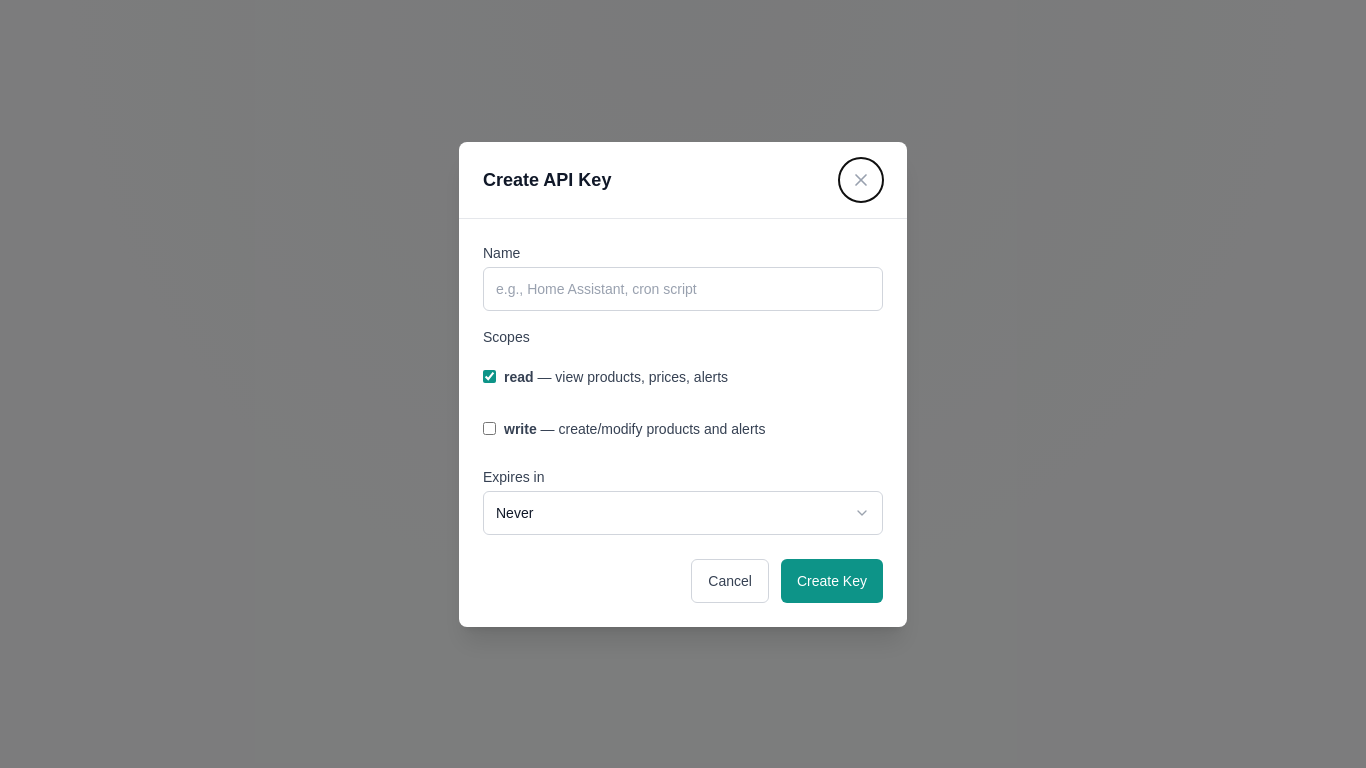
Test: ApiKeyCreateModal › should show error when no scopes selected
Type "Test Key" into the field labelled "Name" at (683, 288), box [483,266,883,310]
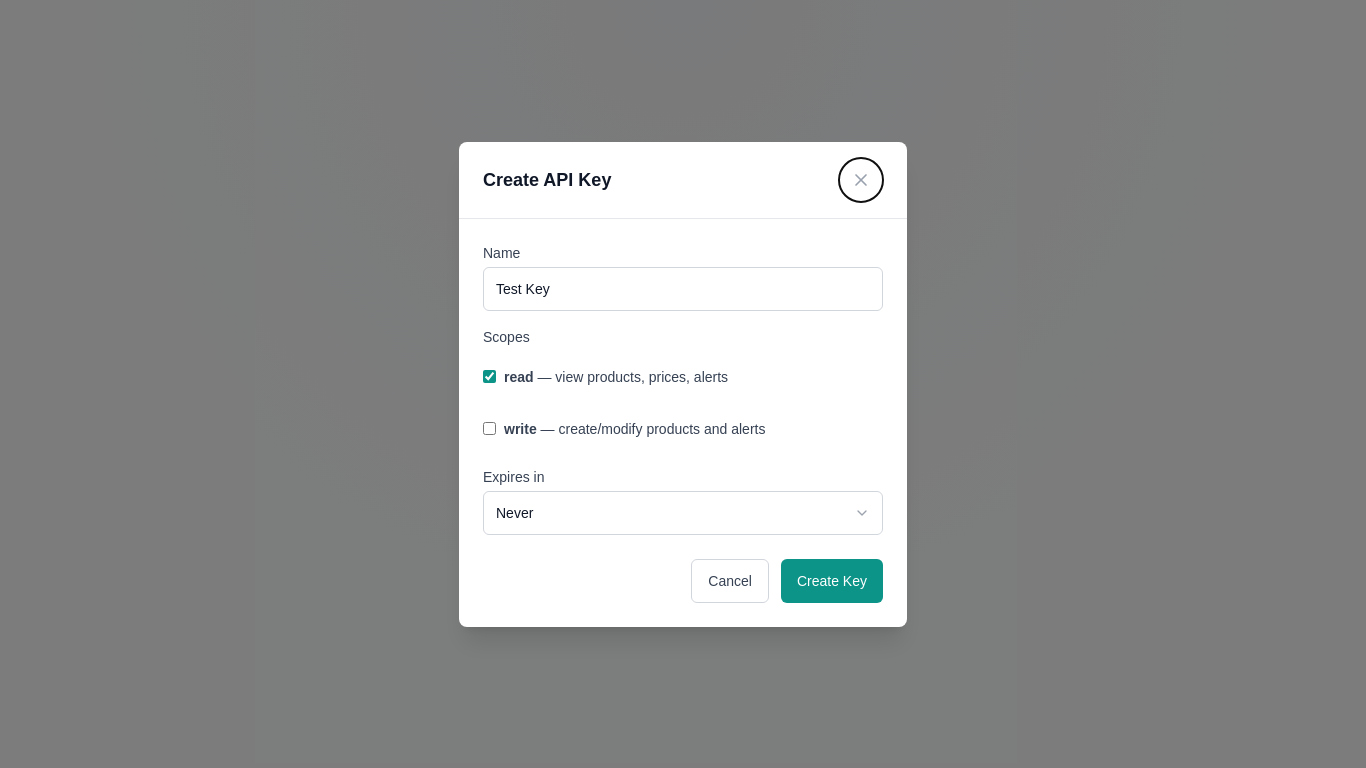
// Uncheck default read scope
Click the checkbox labelled "read — view products, prices, alerts" at (490, 376), box [483,370,496,383]
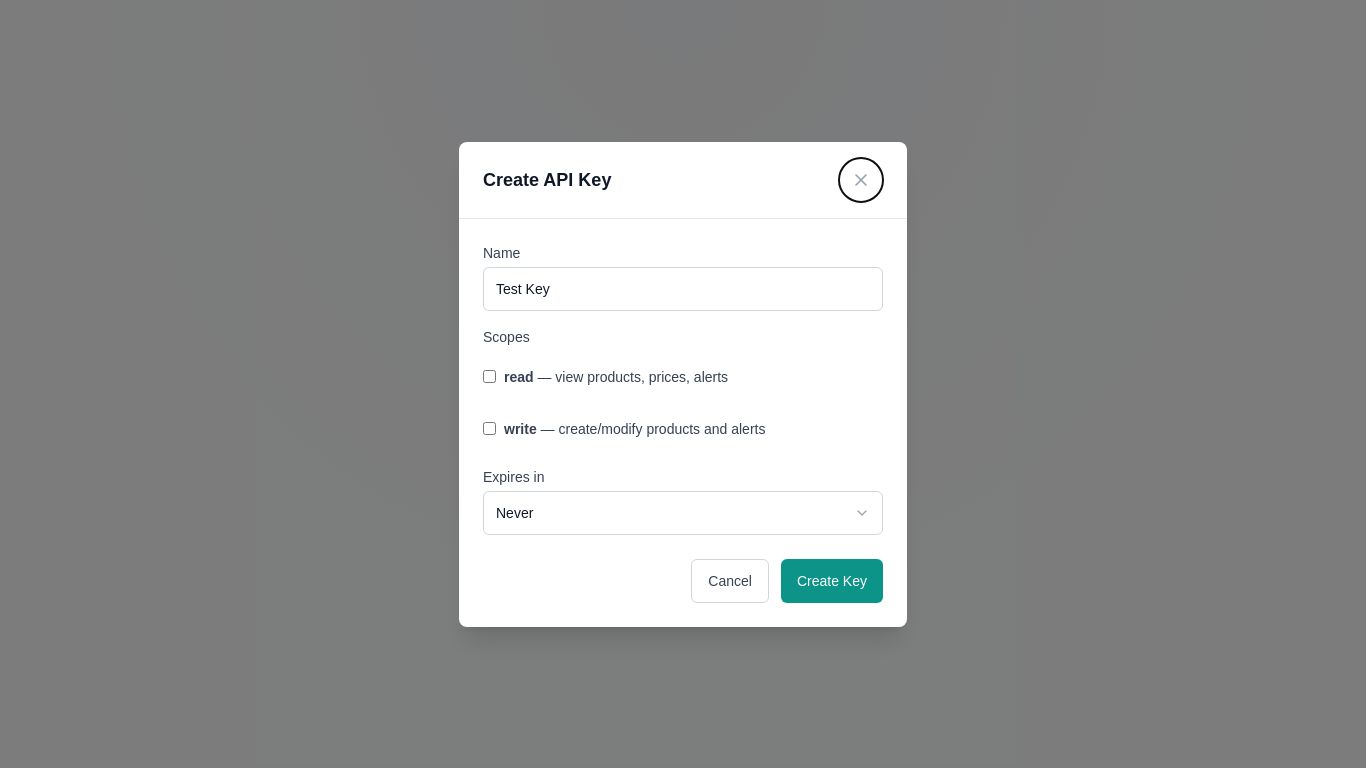
Click the button "Create Key" at (832, 580), box [781,558,883,602]
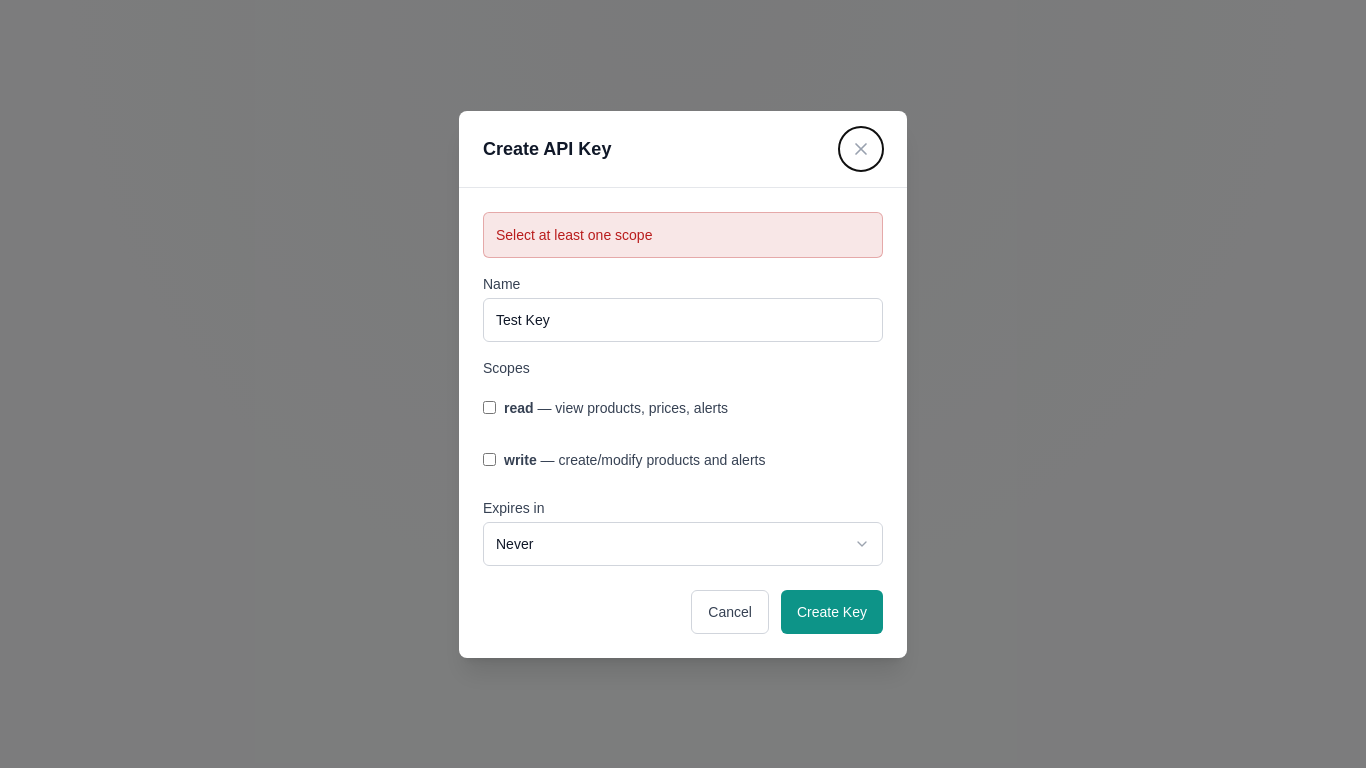
Expected: the text "Select at least one scope" is shown, [496,226,652,242]
